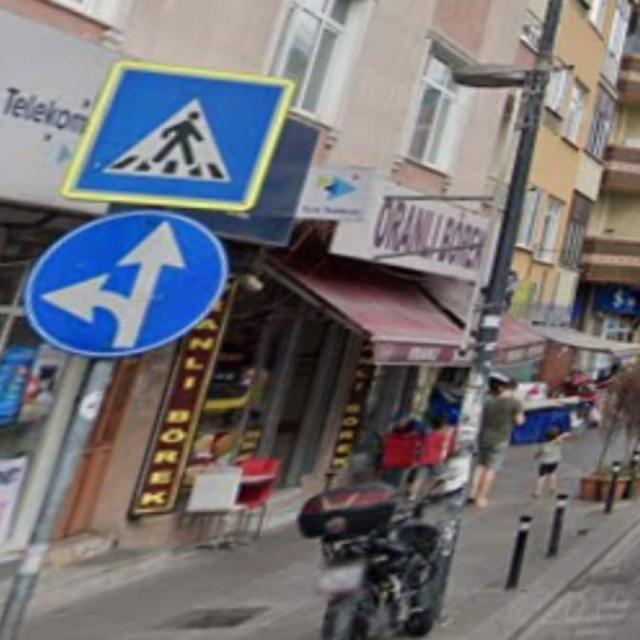ilerisol: (30, 210, 220, 354)
